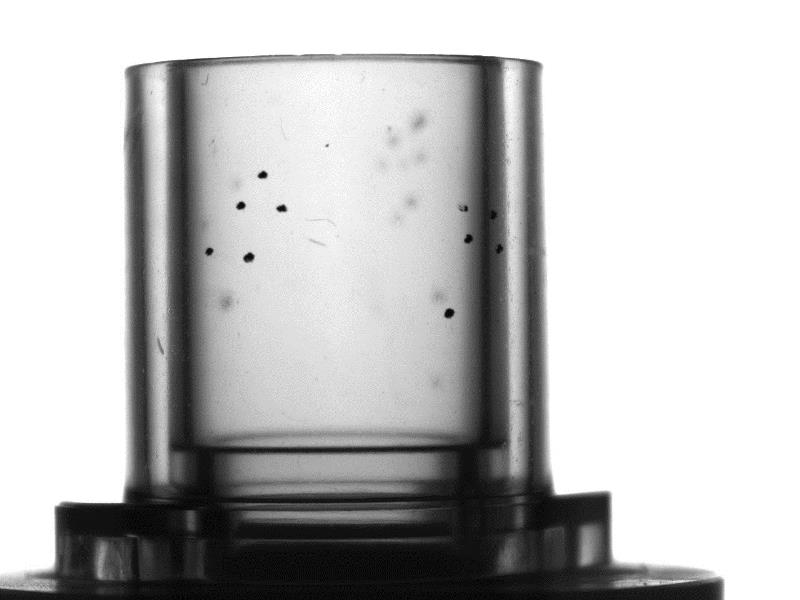blackdot: (442, 303, 458, 321), (242, 250, 260, 265), (232, 198, 250, 210), (462, 231, 477, 245), (493, 241, 508, 255), (256, 170, 272, 183), (275, 201, 289, 213), (460, 199, 470, 215), (203, 245, 217, 256)
